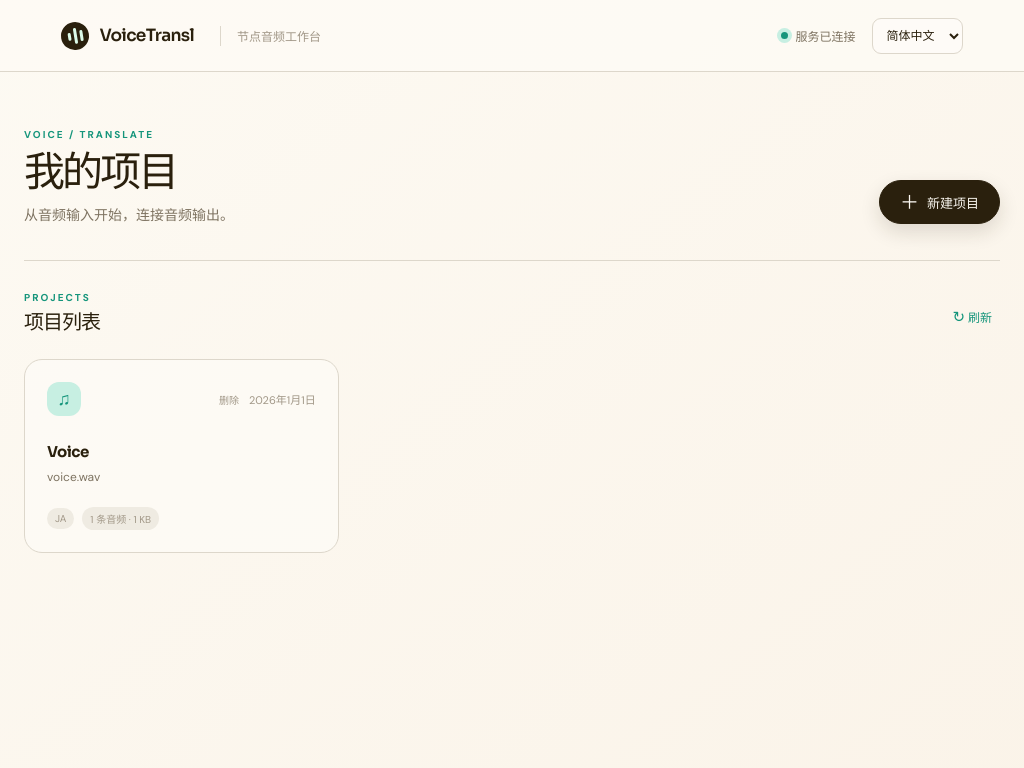
Test case: workflow navigation guards › does not expose a legacy pipeline switch and keeps the node canvas as the only workspace
The width and height of the screenshot is (1024, 768).
Click the 3rd button.
click(64, 399)  # box 24,359 -> 339,553
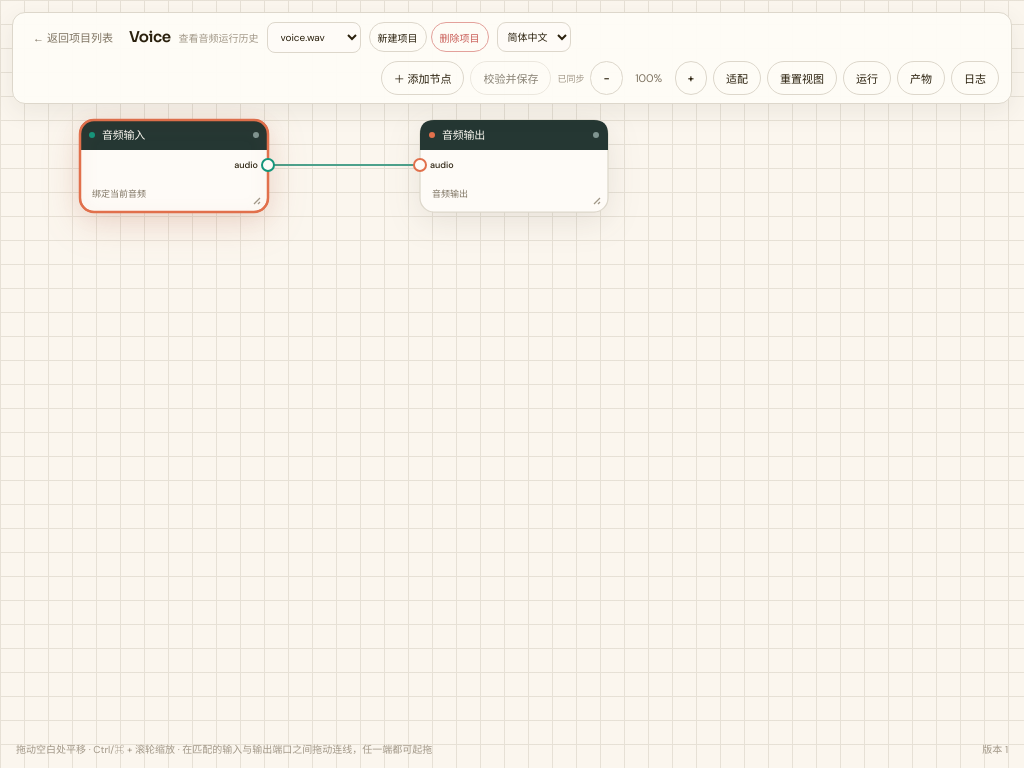
expect the element with class "workspace" is shown: met, box 24,56 -> 1000,81
expect the element with class "node-workflow" is shown: met
expect the number of elements with class "node-workflow" is 1: met
